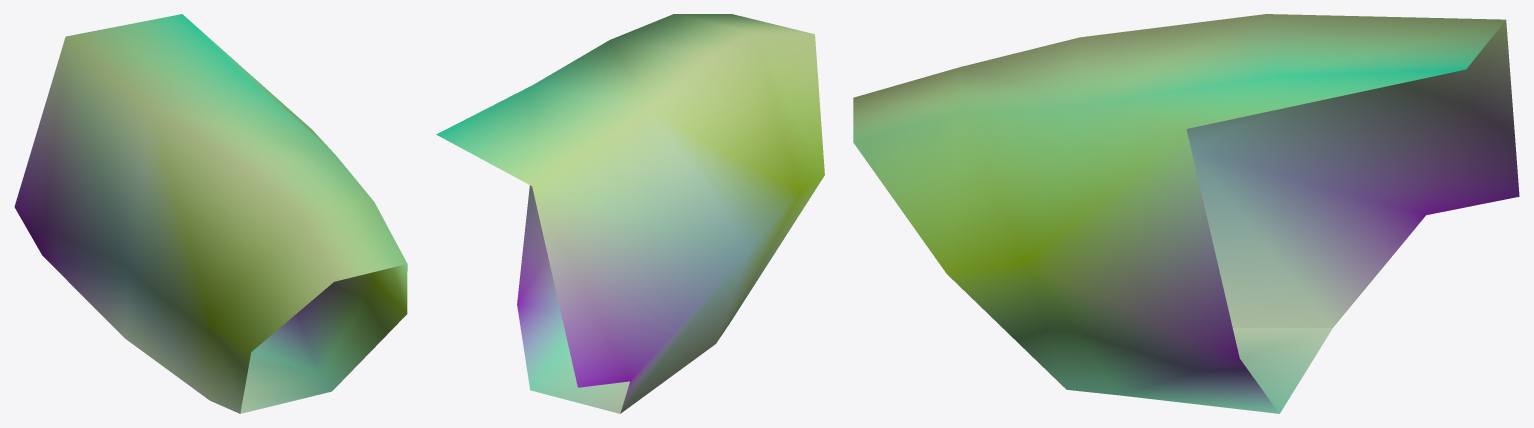
The picture shows the model from 3 angles, left to right: view 1: azimuth 30°, elevation 25°; view 2: azimuth 150°, elevation 25°; view 3: azimuth 270°, elevation 25°; orthographic projection. The views are drawn at different scales.
Visible parts, largest first — view 1: part; view 2: part; view 3: part.
Boxes of the visible parts, left/top/right/bottom form: part: left=14, top=14, right=407, bottom=413; part: left=436, top=14, right=824, bottom=413; part: left=853, top=14, right=1519, bottom=413.
Size of the model in its own units: 20 by 29 by 50.
